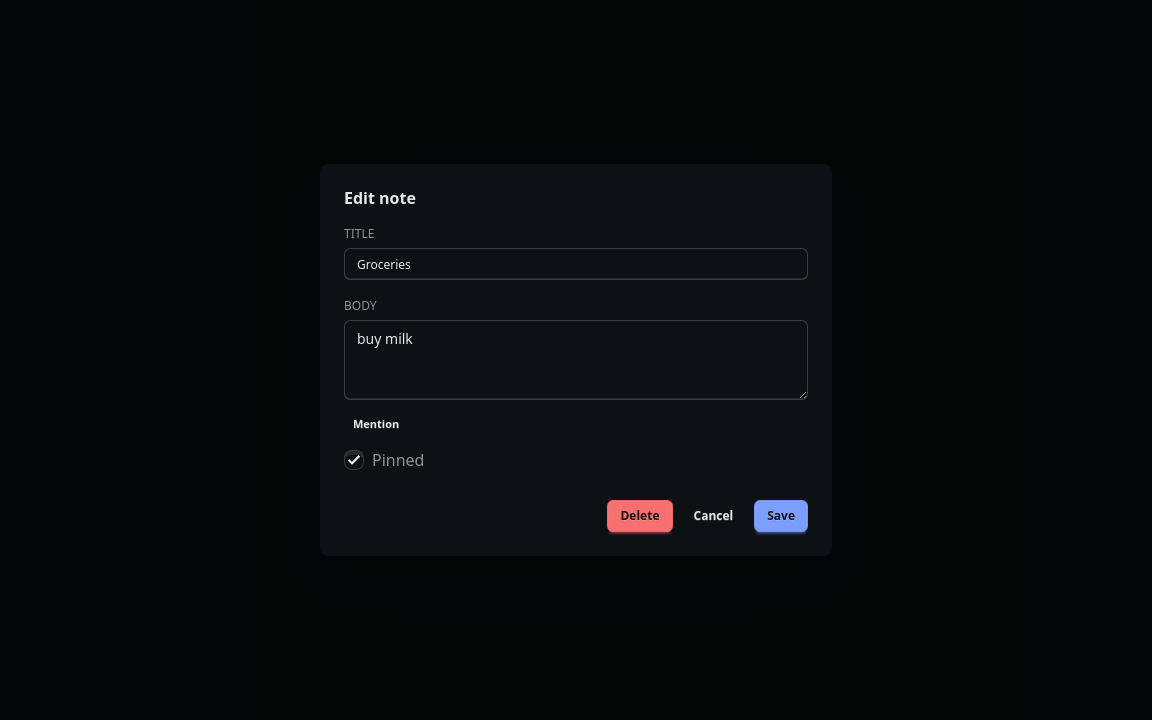
Scenario: NoteForm › shows an error and returns to the buttons when delete fails
Click the button "Delete" at (640, 516), box [608,500,672,532]
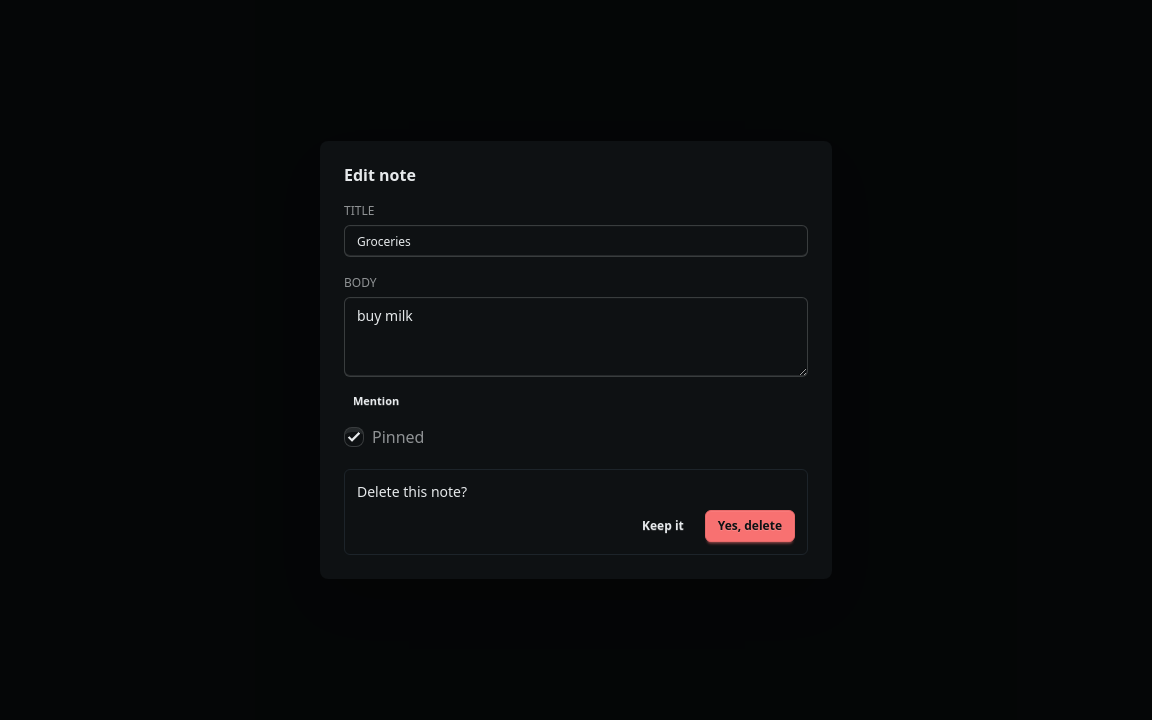
Click the button "Yes, delete" at (750, 526), box [705,510,795,542]
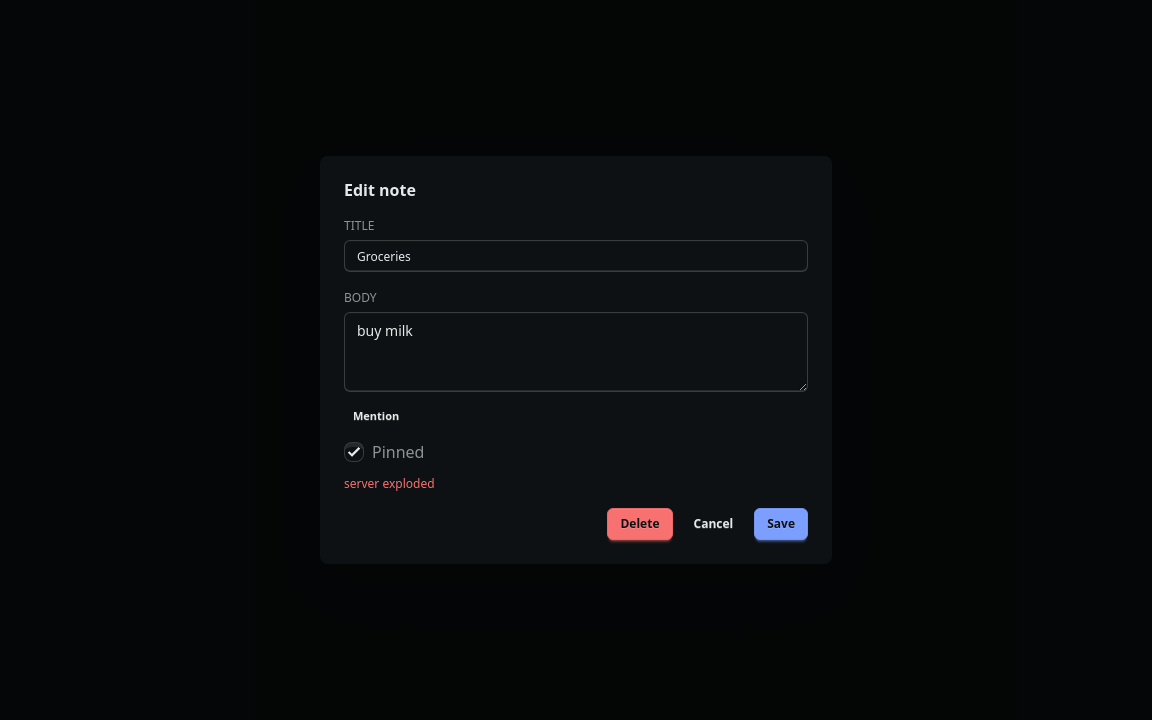
Expected: the button "Delete" is shown, [608,508,672,540]
Now the list item "server exploded" is shown, box [344,475,435,492]
Now the text "Delete this note?" is gone
